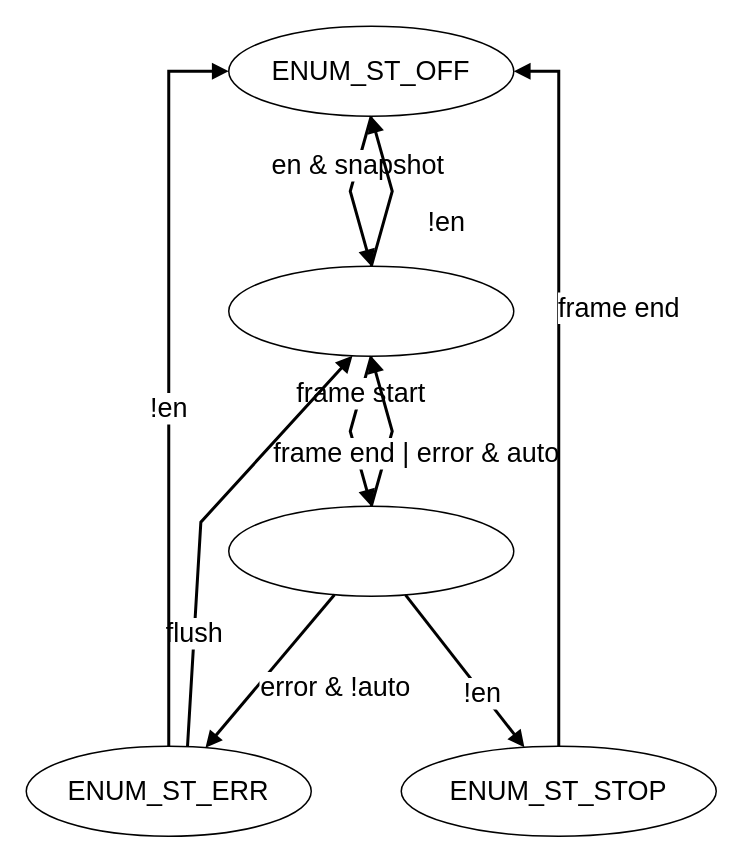
Image size: 743x863. Some labels were removed from this diagram. Each missing label, with the centre of its shape:
ENUM_ST_ARM: the point at 370,310
ENUM_ST_RUN: the point at 370,550
